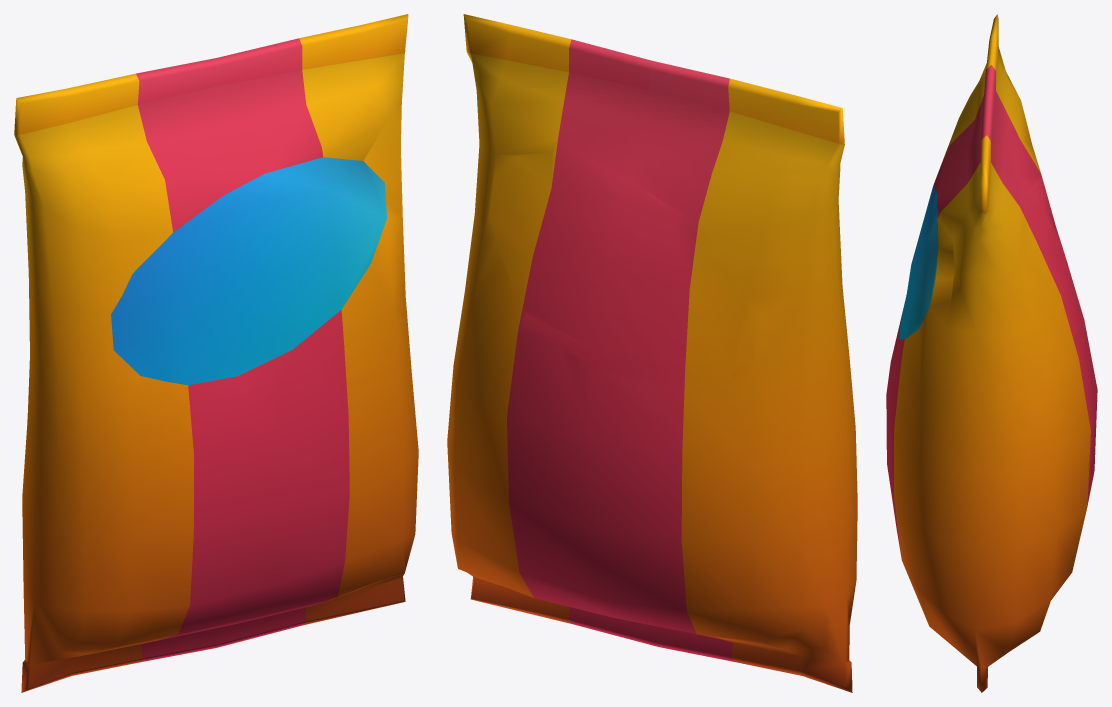
The model's file is chips_010.fbx.
The picture shows the model from 3 angles, left to right: view 1: azimuth 30°, elevation 25°; view 2: azimuth 150°, elevation 25°; view 3: azimuth 270°, elevation 25°; orthographic projection. The views are drawn at different scales.
Visible parts, largest first — view 1: chips_010; view 2: chips_010; view 3: chips_010.
Boxes of the visible parts, box(x1,y1,x2,y2) form: chips_010: box(14, 14, 418, 692); chips_010: box(447, 14, 857, 692); chips_010: box(886, 14, 1097, 692).
Bounding box in the file's own units: 15.92 × 8.57 × 23.16.
